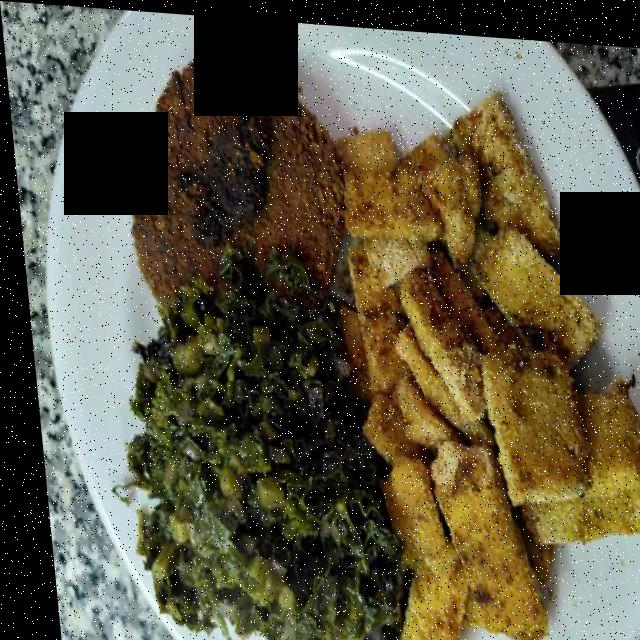grits-polenta-maize-flour: (318, 97, 640, 640)
savoy-cabbage-steamed-without-addition-of-salt: (124, 257, 389, 640)
